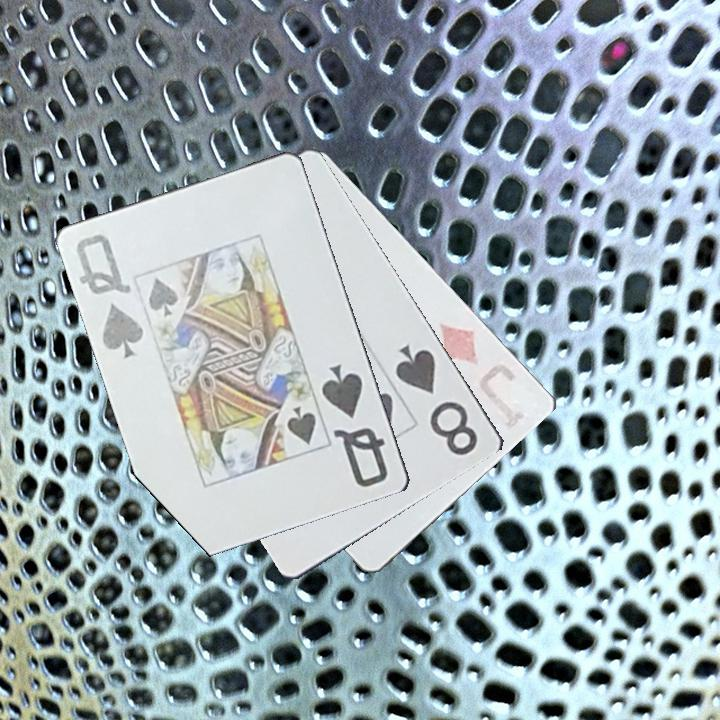8s: (392, 341, 482, 459)
Jd: (436, 320, 533, 432)
Qs: (72, 230, 150, 361), (318, 360, 392, 491)
